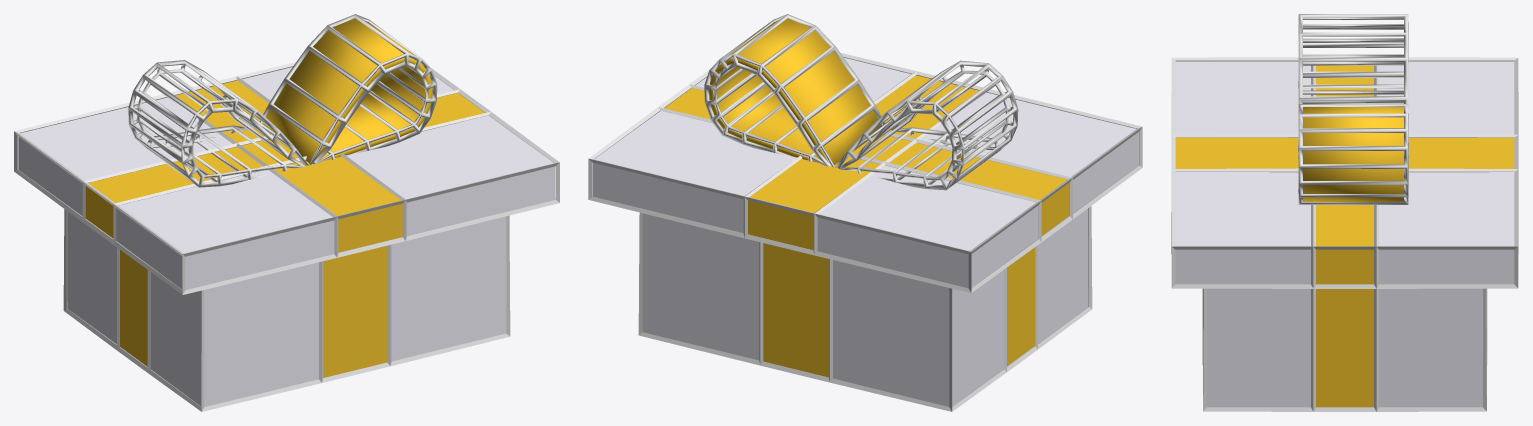
The model's file is REGALO 5.fbx.
3 views of the same model, side by side, from view 1: azimuth 30°, elevation 25°; view 2: azimuth 150°, elevation 25°; view 3: azimuth 270°, elevation 25° (orthographic). The views are drawn at different scales.
Visible parts, largest first — view 1: Regalo 2.001; view 2: Regalo 2.001; view 3: Regalo 2.001.
Boxes of the visible parts, x1=… form: Regalo 2.001: x1=14, y1=14, x2=559, y2=411; Regalo 2.001: x1=588, y1=14, x2=1142, y2=411; Regalo 2.001: x1=1171, y1=14, x2=1518, y2=411.
Size of the model in its own units: 594 by 397 by 461.
